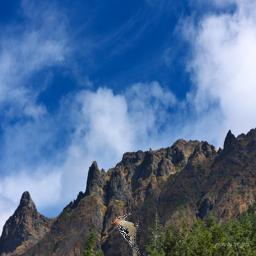Woodpecker: (114, 213, 139, 253)
